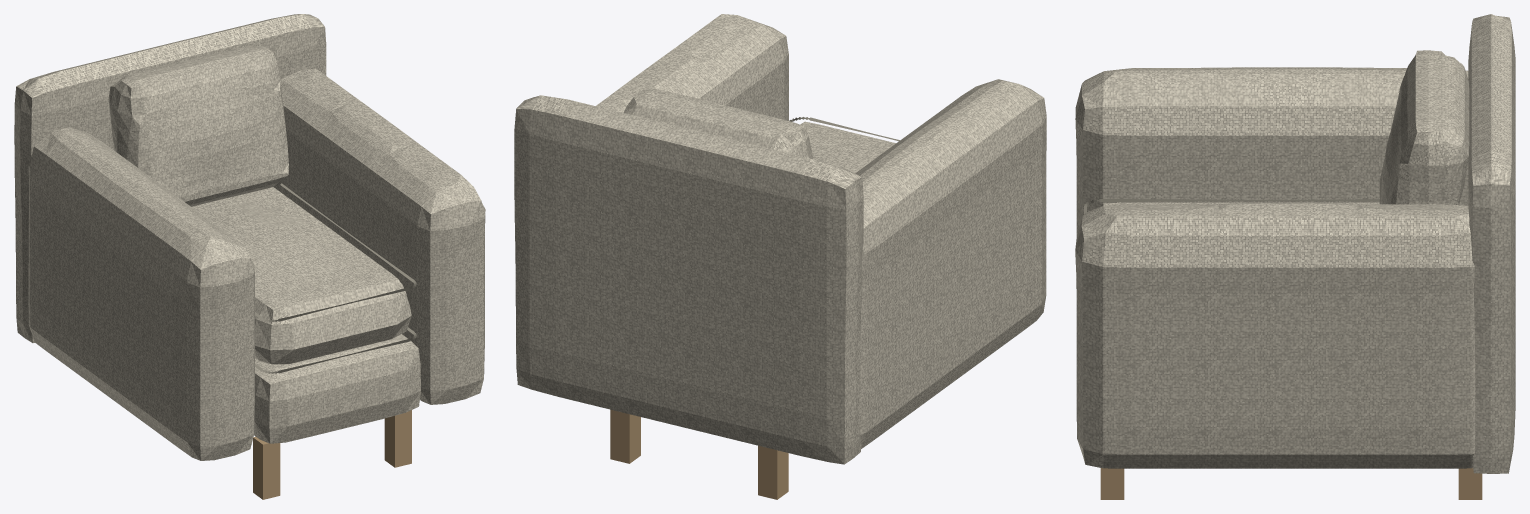
File: HIN-LNG-std.glb
3 renders of one model, left to right at view 1: azimuth 30°, elevation 25°; view 2: azimuth 150°, elevation 25°; view 3: azimuth 270°, elevation 25°, orthographic. The views are drawn at different scales.
Parts seen in each view (by area): view 1: arm-pad-l:fabric:eyJwcmVzZXQiOiJib3VjbGUiLCJ3YXJwIjoiY3JlYW0, arm-pad-r:fabric:eyJwcmVzZXQiOiJib3VjbGUiLCJ3YXJwIjoiY3JlYW0, inside-back:fabric:eyJwcmVzZXQiOiJib3VjbGUiLCJ3YXJwIjoiY3JlY, seat:fabric:eyJwcmVzZXQiOiJib3VjbGUiLCJ3YXJwIjoiY3JlYW0iLCJ3, back-pad:fabric:eyJwcmVzZXQiOiJib3VjbGUiLCJ3YXJwIjoiY3JlYW0i, deck:fabric:eyJwcmVzZXQiOiJib3VjbGUiLCJ3YXJwIjoiY3JlYW0iLCJ3, leg-fl:pbr, leg-fr:pbr, seat:piping:pbr; view 2: back-pad:fabric:eyJwcmVzZXQiOiJib3VjbGUiLCJ3YXJwIjoiY3JlYW0i, arm-pad-l:fabric:eyJwcmVzZXQiOiJib3VjbGUiLCJ3YXJwIjoiY3JlYW0, arm-pad-r:fabric:eyJwcmVzZXQiOiJib3VjbGUiLCJ3YXJwIjoiY3JlYW0, inside-back:fabric:eyJwcmVzZXQiOiJib3VjbGUiLCJ3YXJwIjoiY3JlY, seat:fabric:eyJwcmVzZXQiOiJib3VjbGUiLCJ3YXJwIjoiY3JlYW0iLCJ3, leg-br:pbr, leg-bl:pbr; view 3: arm-pad-r:fabric:eyJwcmVzZXQiOiJib3VjbGUiLCJ3YXJwIjoiY3JlYW0, arm-pad-l:fabric:eyJwcmVzZXQiOiJib3VjbGUiLCJ3YXJwIjoiY3JlYW0, back-pad:fabric:eyJwcmVzZXQiOiJib3VjbGUiLCJ3YXJwIjoiY3JlYW0i, inside-back:fabric:eyJwcmVzZXQiOiJib3VjbGUiLCJ3YXJwIjoiY3JlY, seat:piping:pbr, leg-fr:pbr, leg-br:pbr, seat:fabric:eyJwcmVzZXQiOiJib3VjbGUiLCJ3YXJwIjoiY3JlYW0iLCJ3.
Part boxes in pixels (<box>): arm-pad-l:fabric:eyJwcmVzZXQiOiJib3VjbGUiLCJ3YXJwIjoiY3JlYW0: <box>28,127,254,460</box>; arm-pad-r:fabric:eyJwcmVzZXQiOiJib3VjbGUiLCJ3YXJwIjoiY3JlYW0: <box>274,68,485,404</box>; inside-back:fabric:eyJwcmVzZXQiOiJib3VjbGUiLCJ3YXJwIjoiY3JlY: <box>108,45,288,206</box>; seat:fabric:eyJwcmVzZXQiOiJib3VjbGUiLCJ3YXJwIjoiY3JlYW0iLCJ3: <box>192,187,411,364</box>; back-pad:fabric:eyJwcmVzZXQiOiJib3VjbGUiLCJ3YXJwIjoiY3JlYW0i: <box>14,14,326,342</box>; deck:fabric:eyJwcmVzZXQiOiJib3VjbGUiLCJ3YXJwIjoiY3JlYW0iLCJ3: <box>254,334,420,443</box>; leg-fl:pbr: <box>253,436,280,499</box>; leg-fr:pbr: <box>384,410,411,467</box>; seat:piping:pbr: <box>255,183,416,373</box>; back-pad:fabric:eyJwcmVzZXQiOiJib3VjbGUiLCJ3YXJwIjoiY3JlYW0i: <box>514,95,863,464</box>; arm-pad-l:fabric:eyJwcmVzZXQiOiJib3VjbGUiLCJ3YXJwIjoiY3JlYW0: <box>855,79,1046,448</box>; arm-pad-r:fabric:eyJwcmVzZXQiOiJib3VjbGUiLCJ3YXJwIjoiY3JlYW0: <box>596,14,788,120</box>; inside-back:fabric:eyJwcmVzZXQiOiJib3VjbGUiLCJ3YXJwIjoiY3JlY: <box>623,87,812,159</box>; seat:fabric:eyJwcmVzZXQiOiJib3VjbGUiLCJ3YXJwIjoiY3JlYW0iLCJ3: <box>800,121,895,173</box>; leg-br:pbr: <box>610,409,640,463</box>; leg-bl:pbr: <box>758,445,788,499</box>; arm-pad-r:fabric:eyJwcmVzZXQiOiJib3VjbGUiLCJ3YXJwIjoiY3JlYW0: <box>1075,203,1475,468</box>; arm-pad-l:fabric:eyJwcmVzZXQiOiJib3VjbGUiLCJ3YXJwIjoiY3JlYW0: <box>1075,67,1468,237</box>; back-pad:fabric:eyJwcmVzZXQiOiJib3VjbGUiLCJ3YXJwIjoiY3JlYW0i: <box>1468,14,1515,473</box>; inside-back:fabric:eyJwcmVzZXQiOiJib3VjbGUiLCJ3YXJwIjoiY3JlY: <box>1379,50,1469,205</box>; seat:piping:pbr: <box>1083,199,1463,213</box>; leg-fr:pbr: <box>1100,468,1124,499</box>; leg-br:pbr: <box>1458,468,1482,499</box>; seat:fabric:eyJwcmVzZXQiOiJib3VjbGUiLCJ3YXJwIjoiY3JlYW0iLCJ3: <box>1102,202,1379,206</box>.
Bounding box in the file's own units: 0.76 × 0.76 × 0.82.
11 materials, 6 textured.
